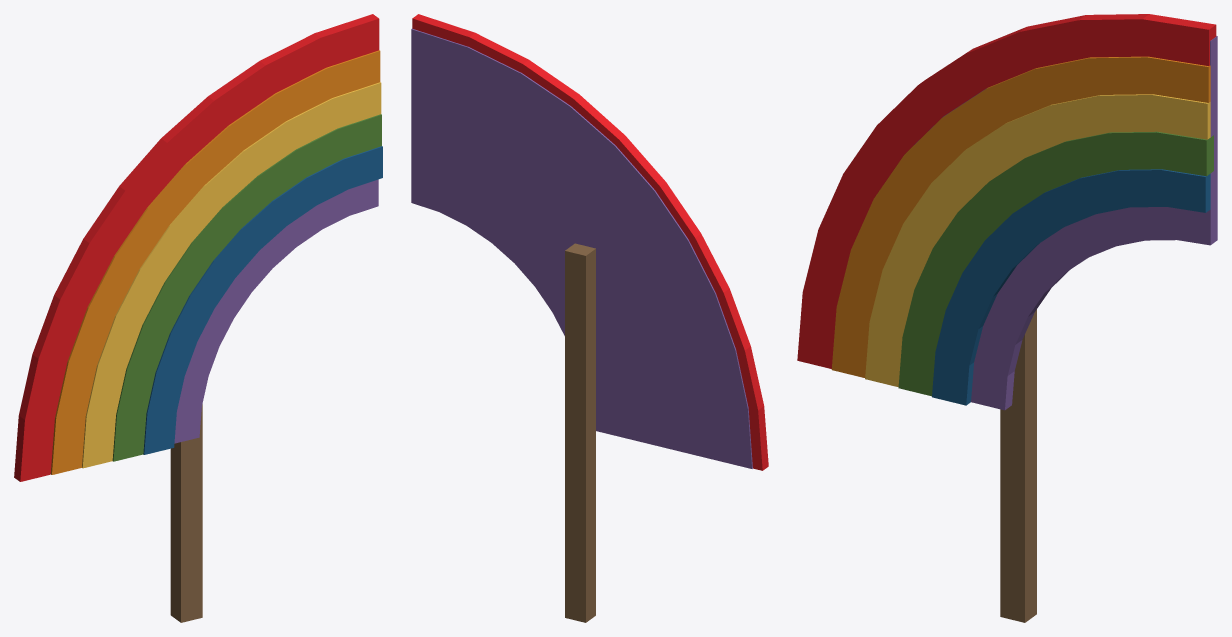
File: arc-en-ciel.glb
3 views of the same model, side by side, from view 1: azimuth 30°, elevation 25°; view 2: azimuth 150°, elevation 25°; view 3: azimuth 330°, elevation 25° (orthographic). The views are drawn at different scales.
Size of the model in its own units: 1 by 1.5 by 0.105.
